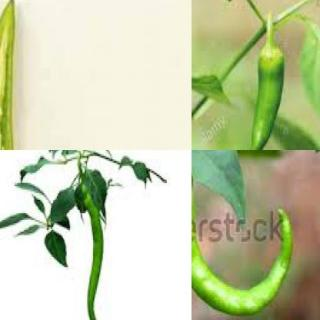green_chilli: (192, 165, 296, 319), (246, 41, 294, 149), (72, 182, 103, 320), (0, 0, 18, 149)
